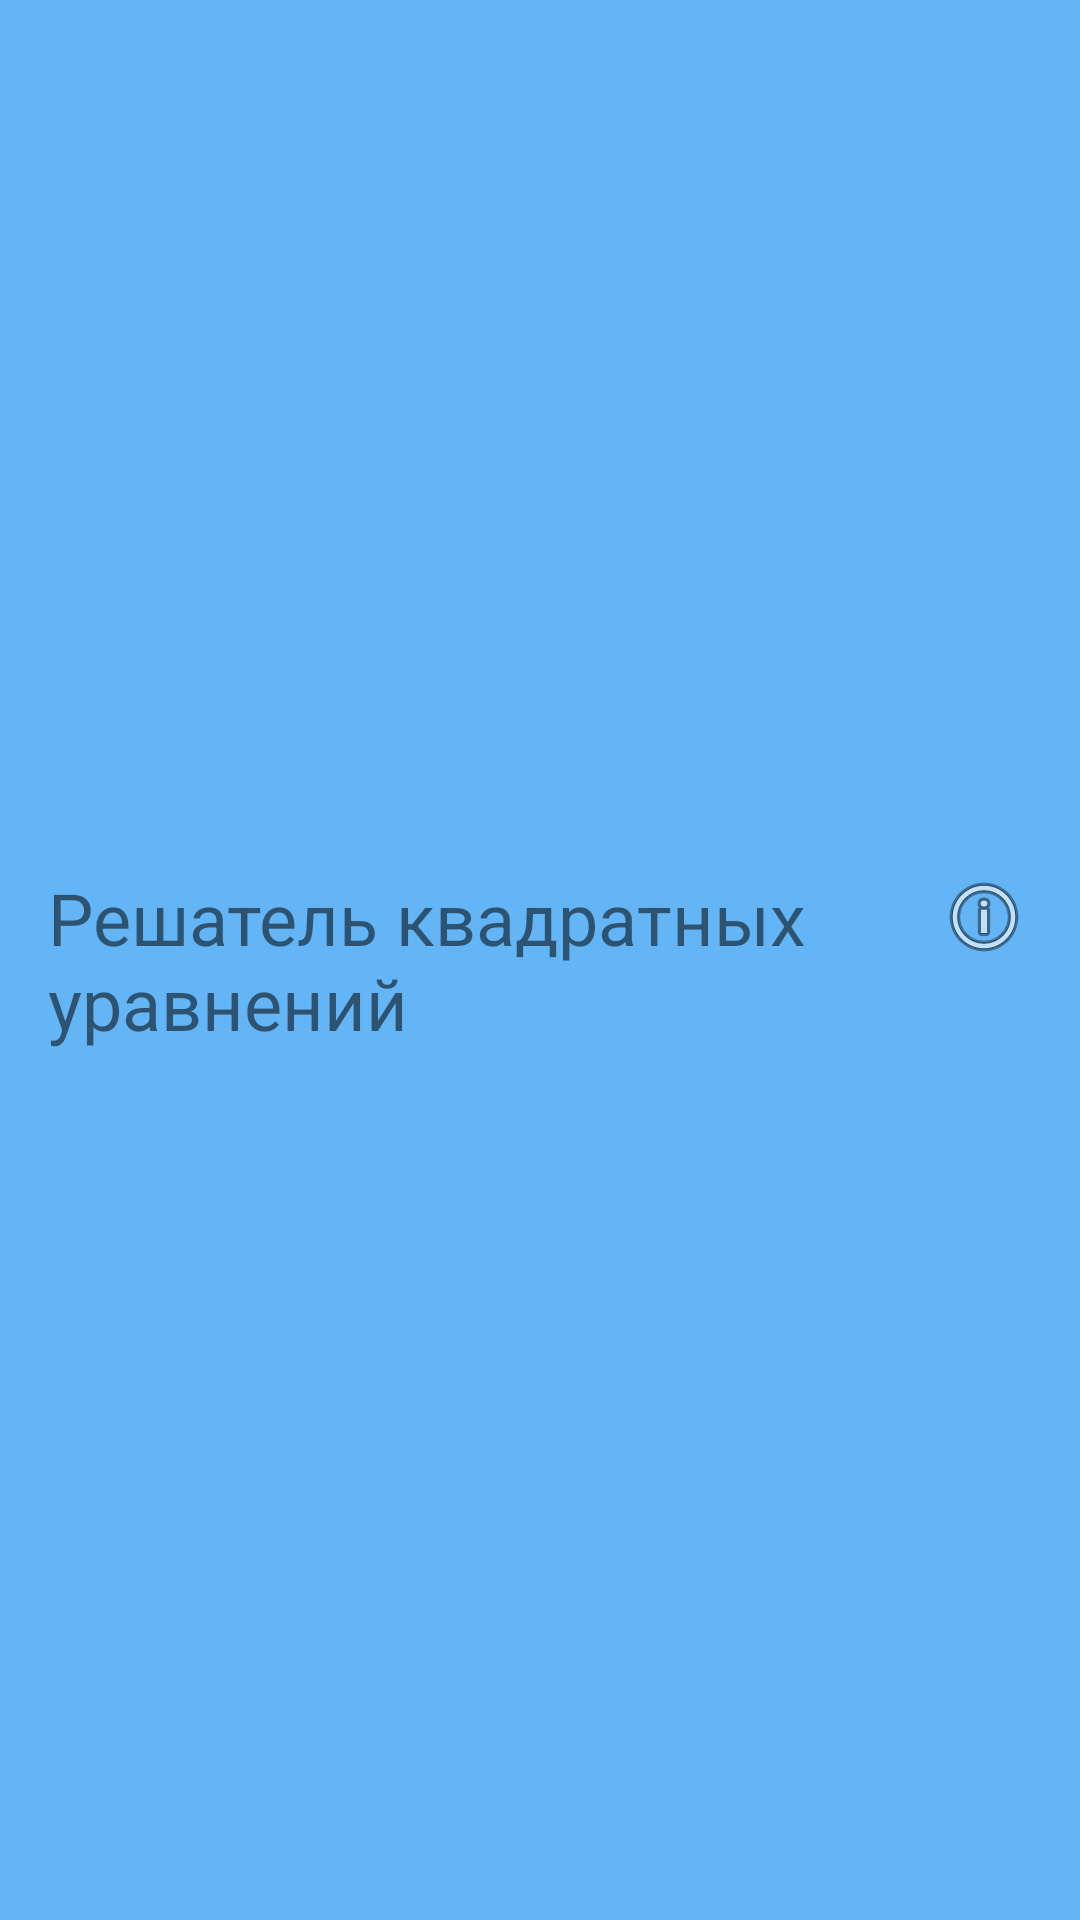

Icons on this 1080×1920 Android screen, each with the point to tap as point (x, y):
info details: point (984, 917)
